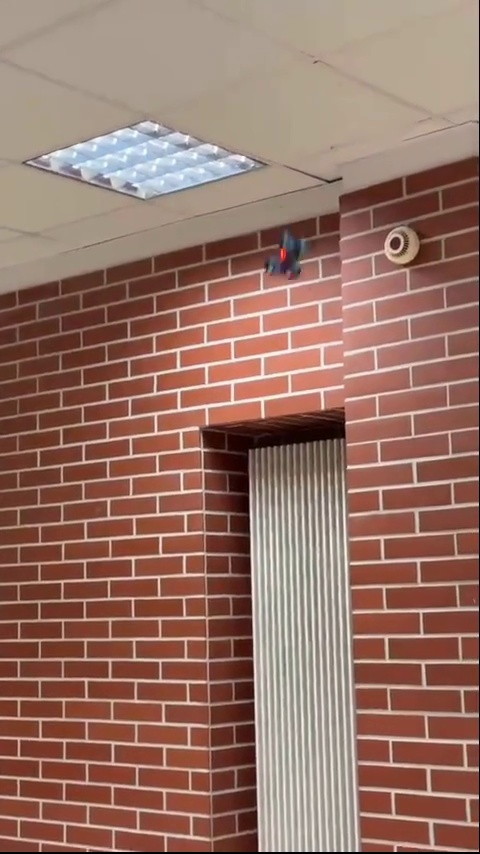drone: (264, 232, 318, 279)
